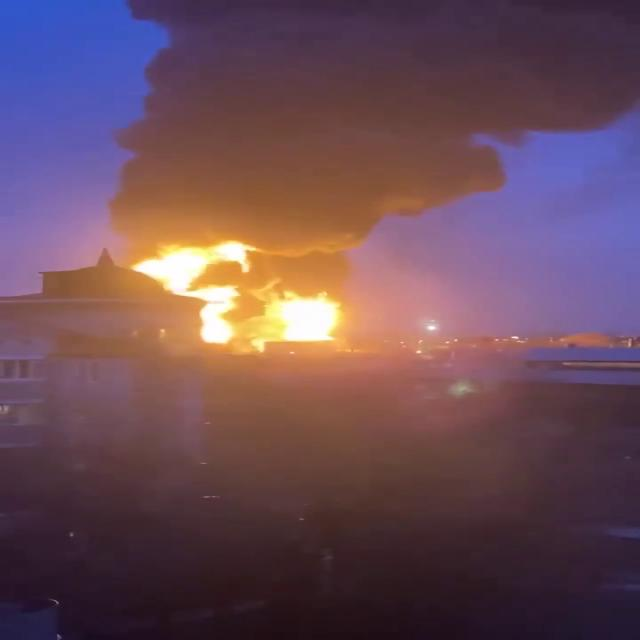Fire: (135, 244, 345, 351)
Smoke: (108, 0, 640, 268)
